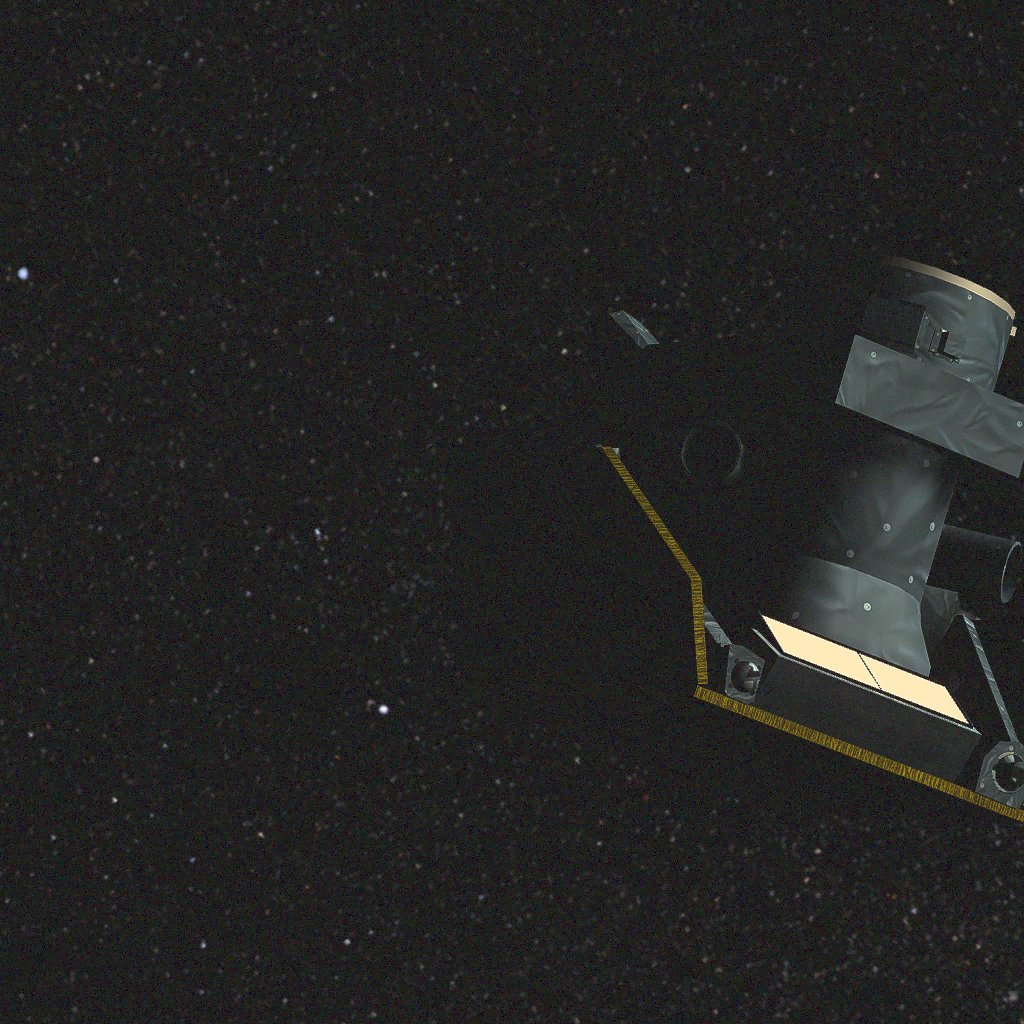cheops: (446, 247, 1024, 823)
